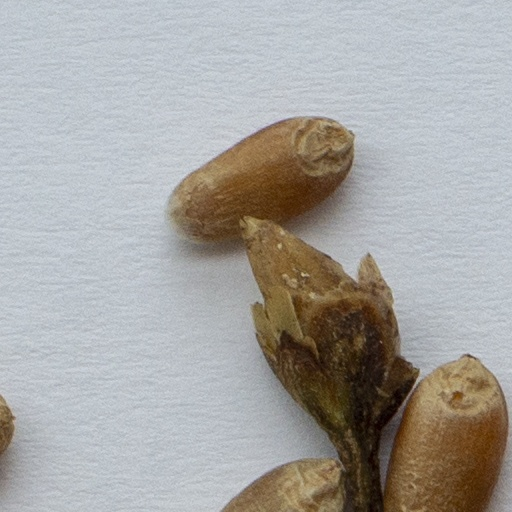Peel-poly: (243, 220, 413, 511)
Wheat-grain-poly: (169, 118, 352, 238)
